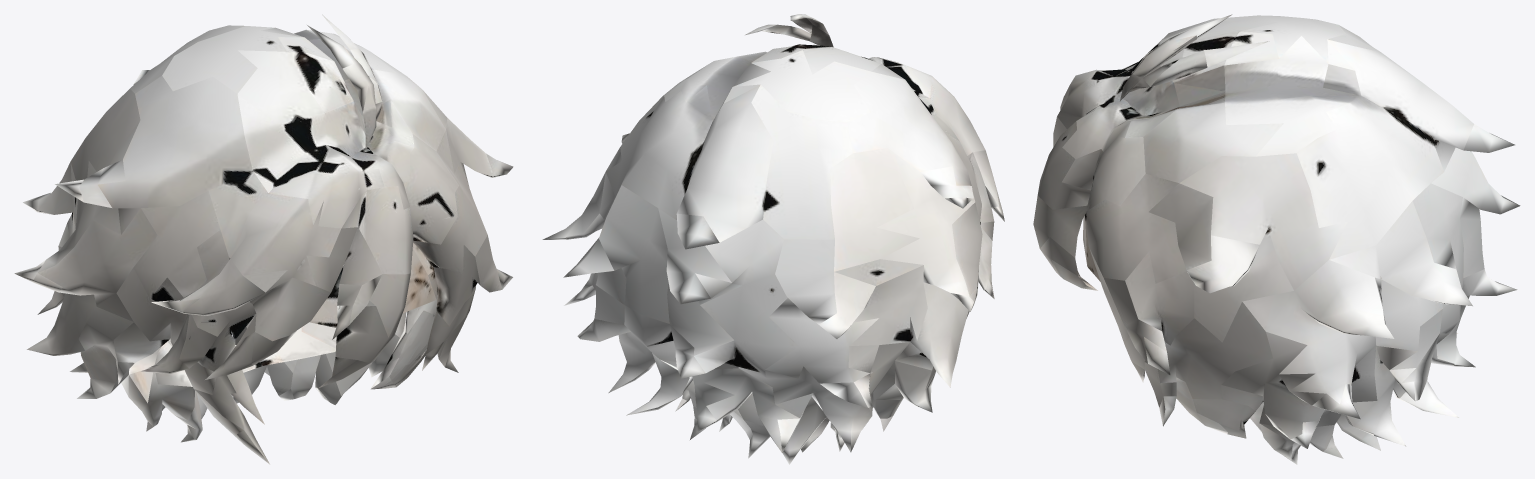
File: hero_chibi_hair.glb
3 views of the same model, side by side, from view 1: azimuth 30°, elevation 25°; view 2: azimuth 150°, elevation 25°; view 3: azimuth 270°, elevation 25° (orthographic). The views are drawn at different scales.
Visible parts, largest first — view 1: hair; view 2: hair; view 3: hair.
Part boxes in pixels (<box>): hair: <box>14,14,513,464</box>; hair: <box>542,14,1004,464</box>; hair: <box>1033,14,1520,464</box>.
Size of the model in its own units: 2 by 1.85 by 1.9.
Materials: 1 (1 with a texture image).
